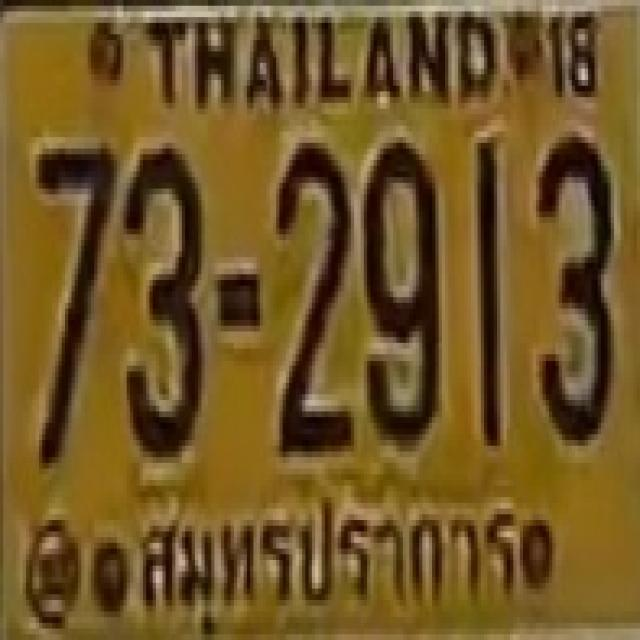1: (474, 140, 497, 443)
2: (275, 140, 349, 449)
3: (122, 143, 200, 451), (536, 131, 611, 440)
7: (34, 140, 112, 460)
9: (361, 137, 435, 440)
SPK: (135, 485, 524, 626)
